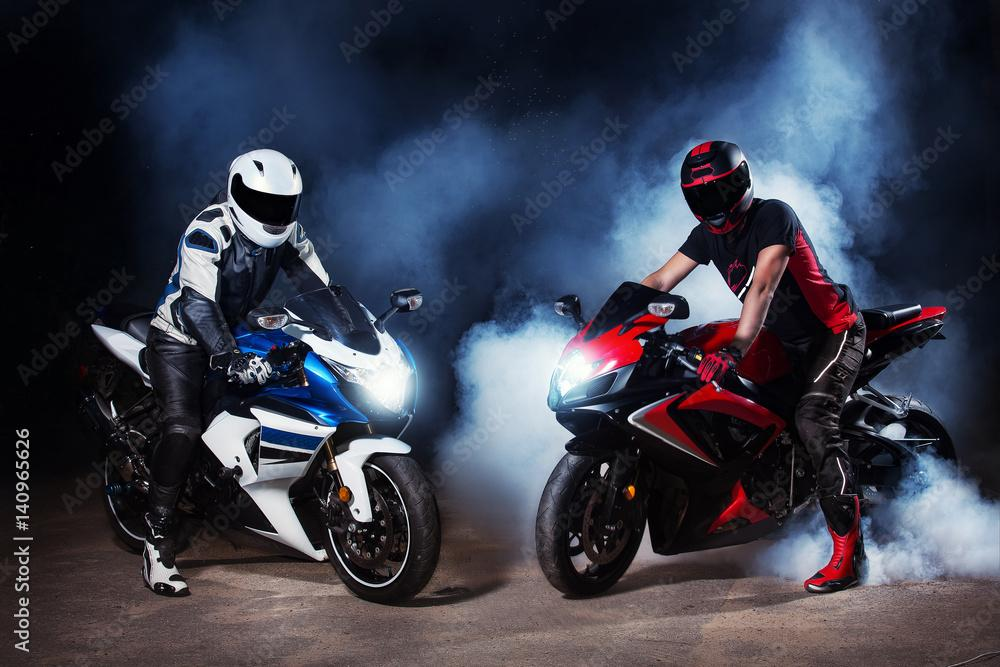helmet: (226, 147, 304, 250), (680, 140, 754, 236)
